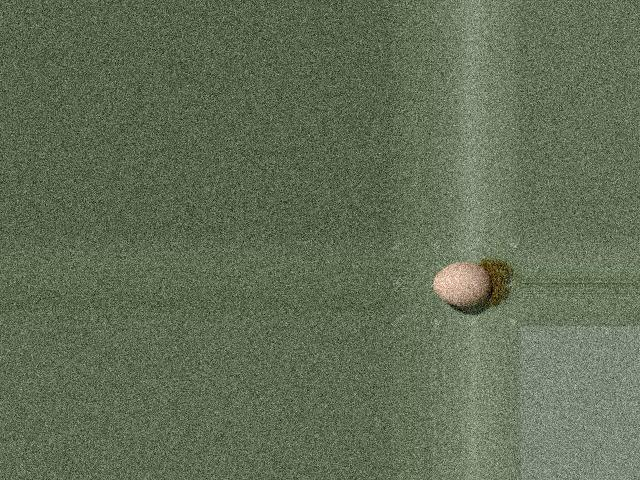egg: (432, 262, 490, 306)
